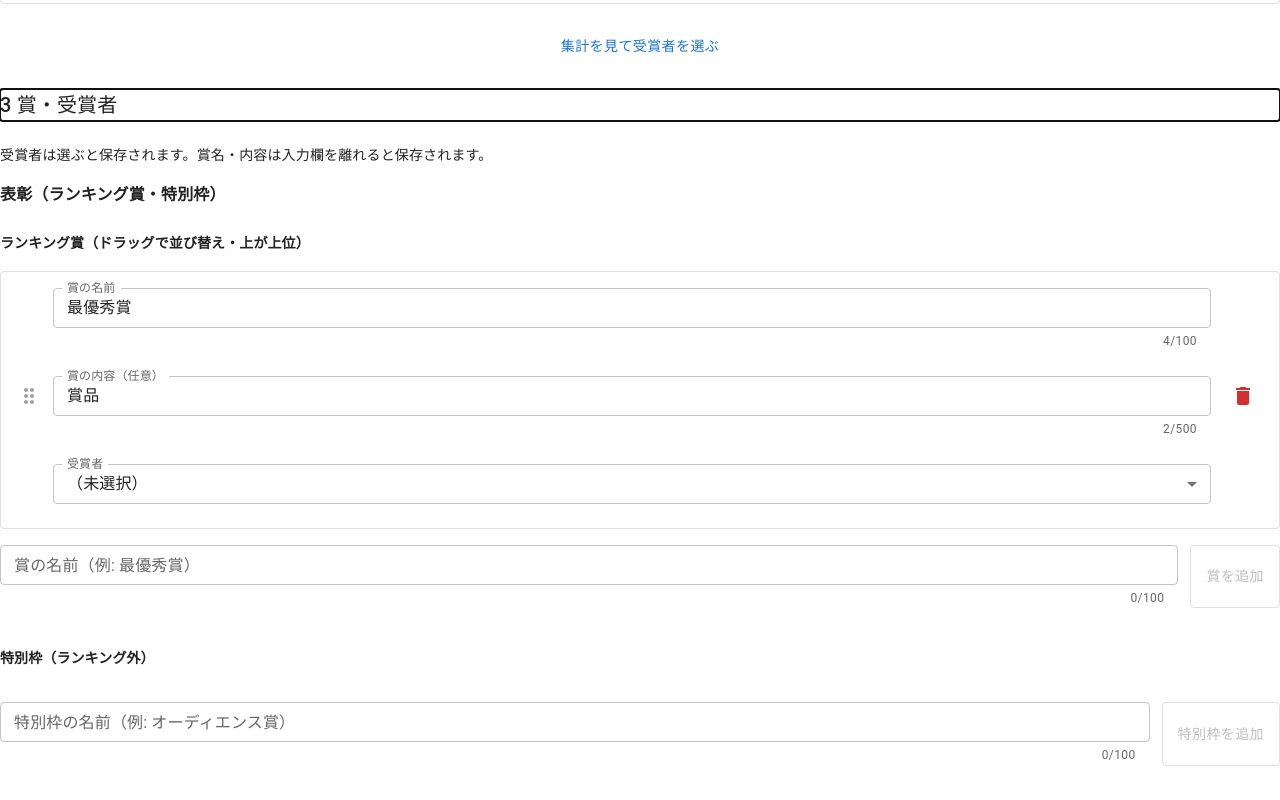
Test: a failed confirmation GET offers reload, not a second PUT
(page scrolled)
Expected: the field labelled "賞の名前" is shown, [53,288,1211,328]
Press the mouse on the dropdown named "受賞者" at (107, 484), box [67,474,148,493]
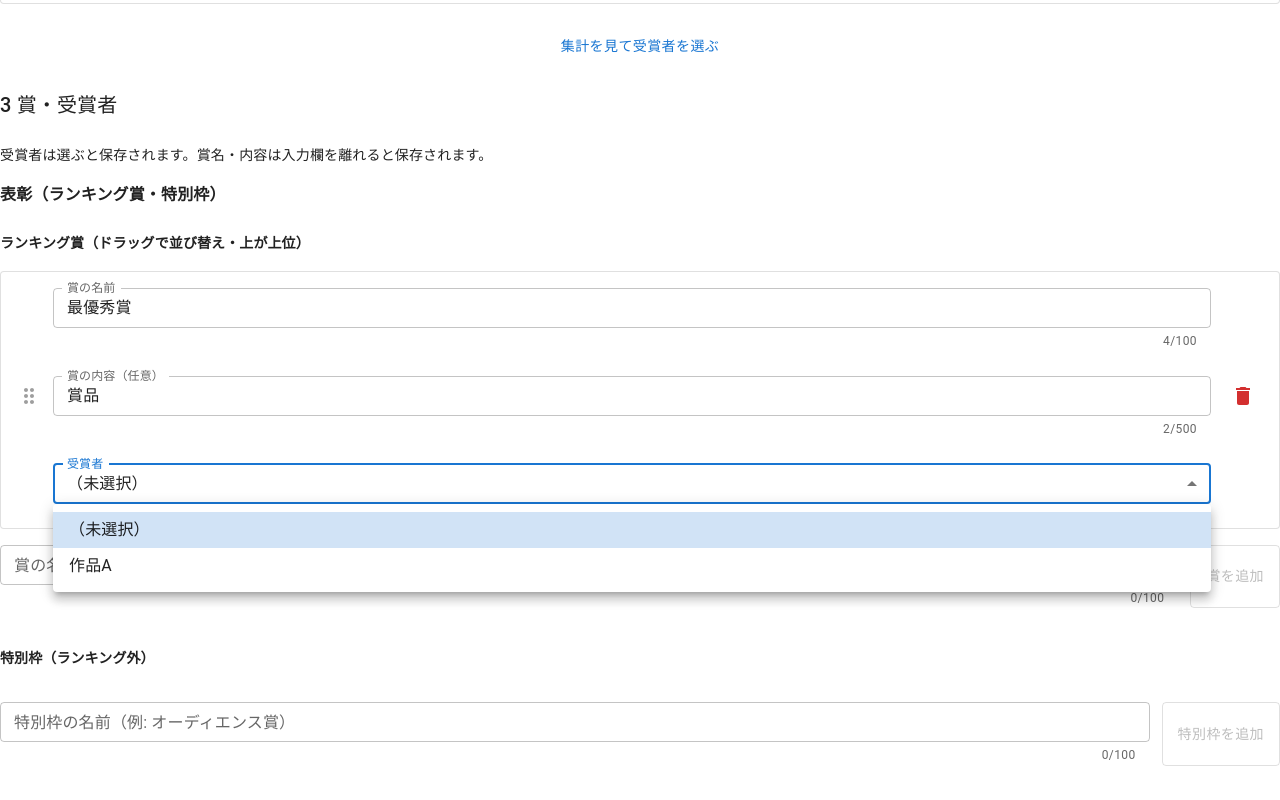
Click the option "作品A".
click(90, 566)  # box [69,556,112,575]
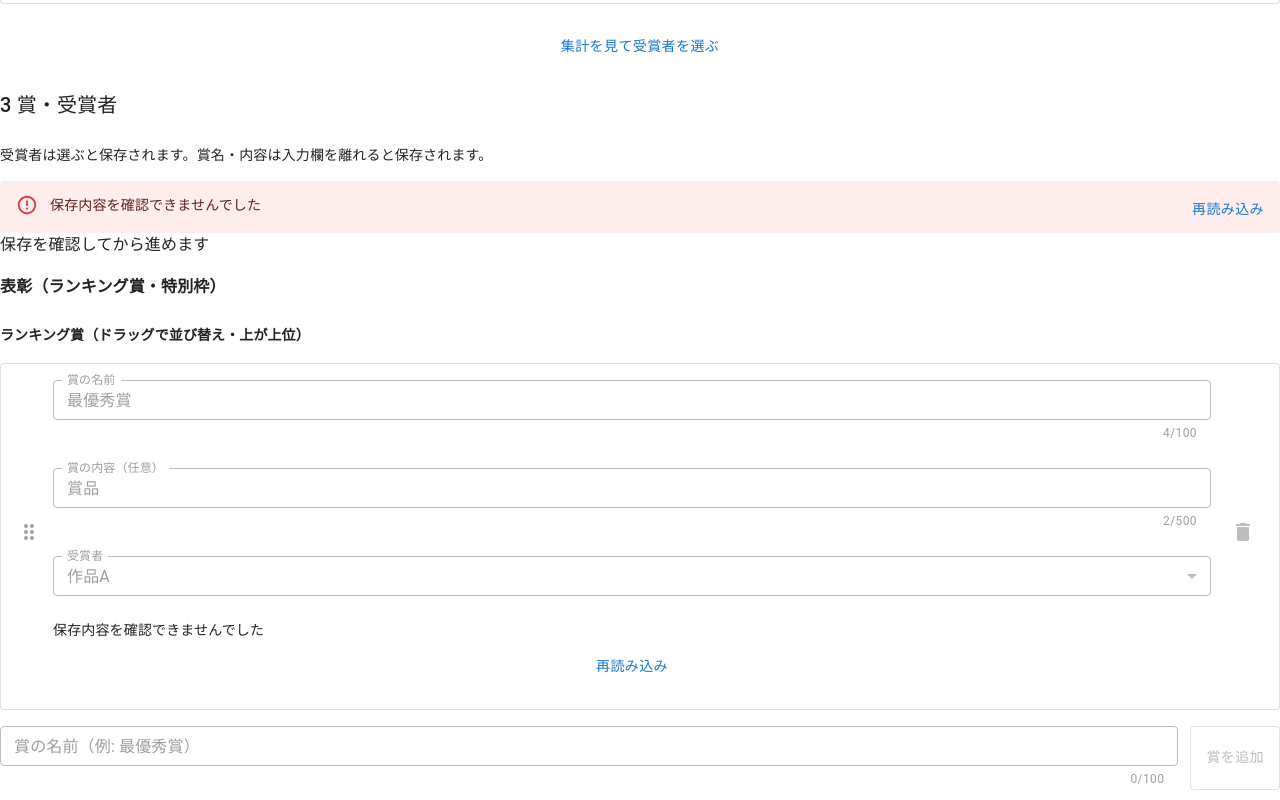
Expected: the button "賞を追加" is disabled, [1190,726,1279,790]
Result: the field labelled "賞の名前" is disabled at [53,380,1211,420]
Click the 1st button "再読み込み".
click(1228, 209)  # box [1184,191,1272,227]
(page scrolled)
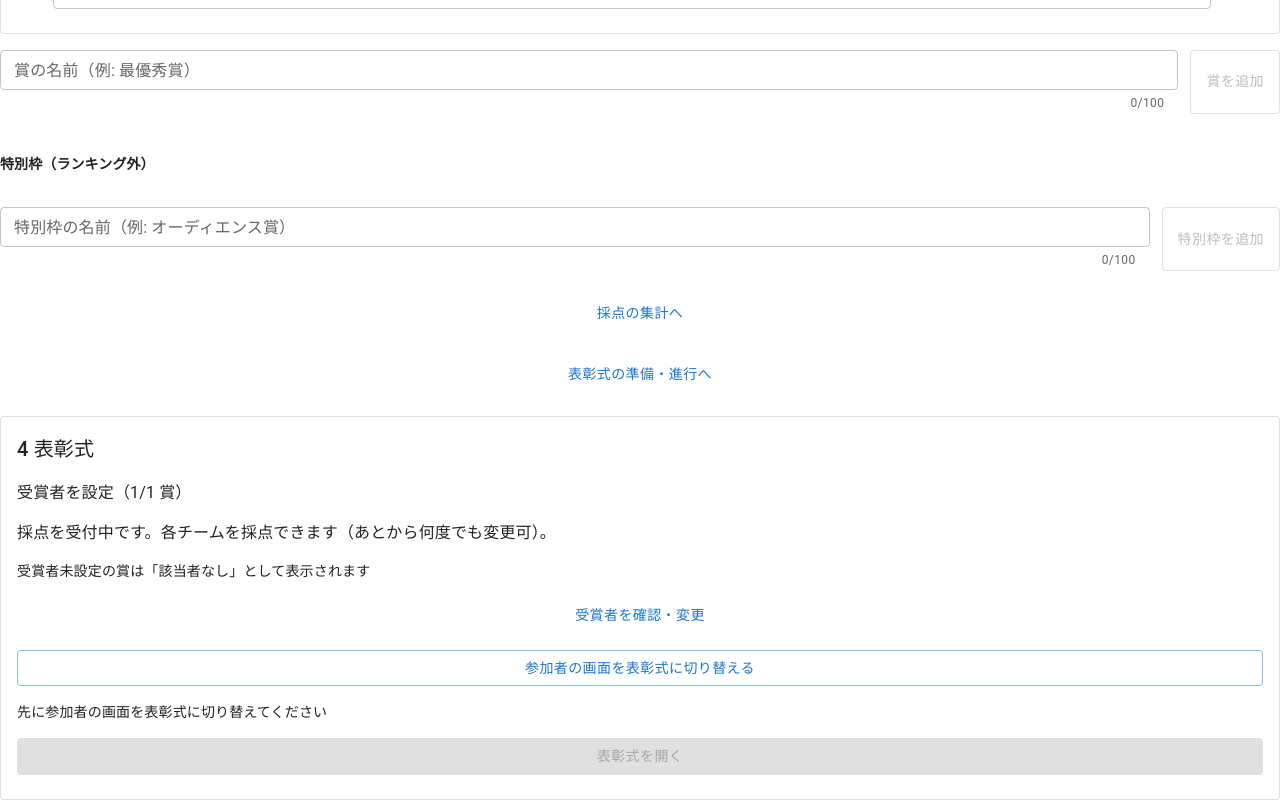
Result: the button "参加者の画面を表彰式に切り替える" is enabled at [17,650,1263,686]
